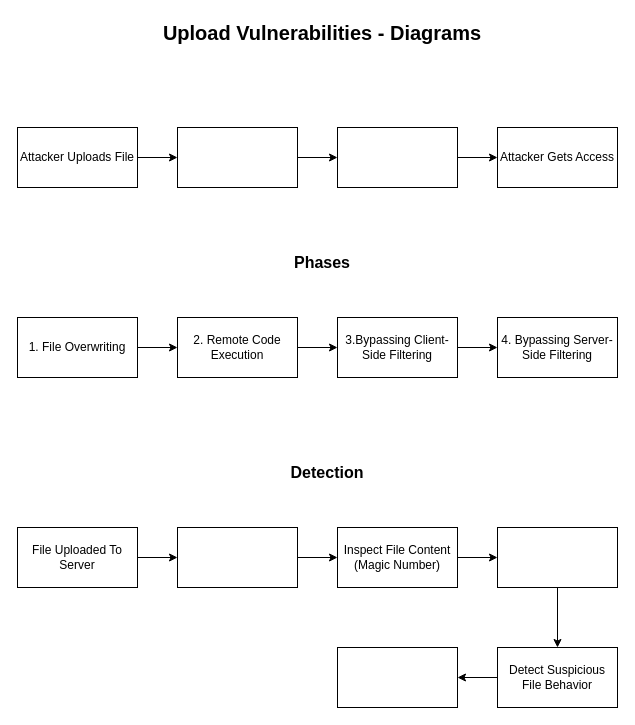
Image size: 635x725. Some labels were removed from this diagram. The shapes that lost their labels are listed below. From the top down, each one's centre as x and y in pixels, then its label:
At point 237,157: "Weak Security Allows It".
At point 397,157: "Web Shell Runs".
At point 237,557: "Check File Type (server-side)".
At point 557,557: "Check Safe Storage".
At point 397,677: "Block upload".
